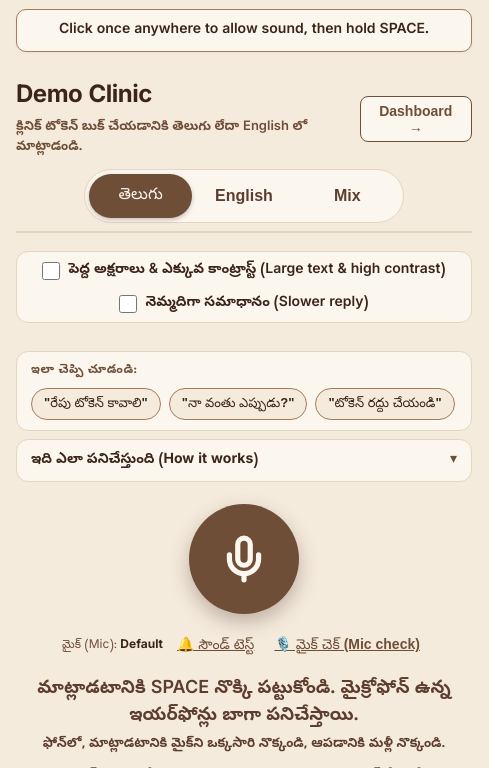
Patient App Component Tests (Vitest + RTL) › 12. Try-saying chip sends text turn without mic and displays English translation under Telugu reply
This screenshot has width=489, height=768.
// Switch to English to get the English chips
Click the button "English" at (244, 196), box [192,174,296,218]
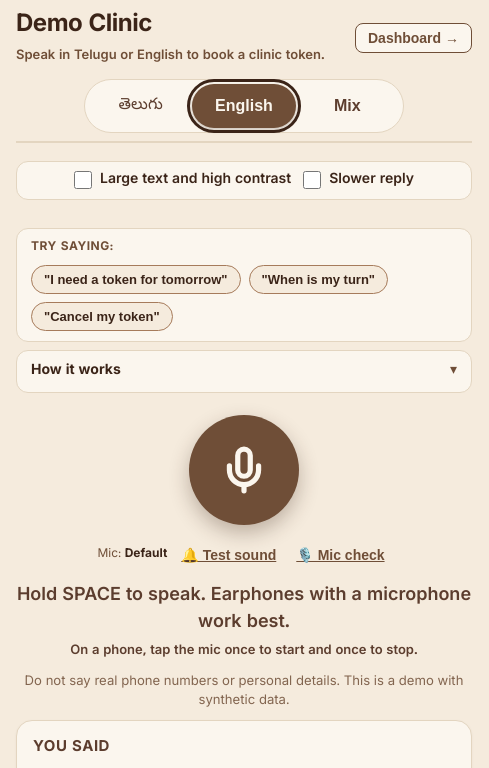
// Click the "I need a token for tomorrow" chip
Click the button "\"I need a token for tomorrow\"" at (136, 279), box [31,264,240,294]
(page scrolled)
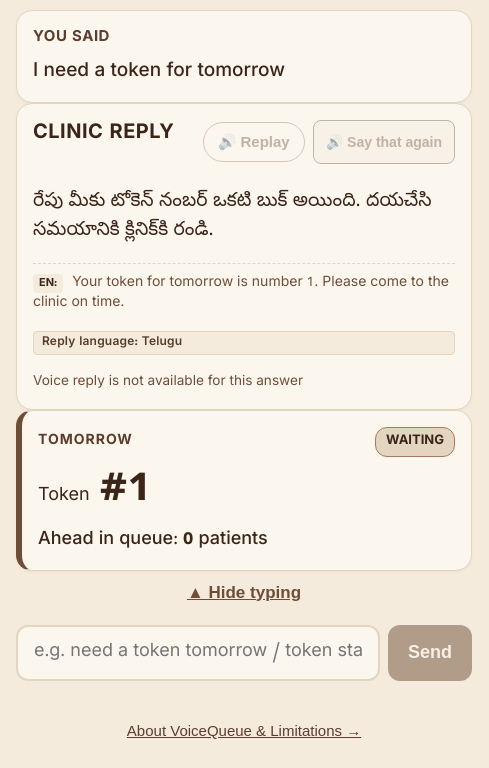
Check: the text "I need a token for tomorrow" is shown, box [33,59,285,85]
Check: the text "రేపు మీకు టోకెన్ నంబర్ ఒకటి బుక్ అయింది" is shown, box [33,189,432,244]
Check: the text "Your token for tomorrow is number 1. Please come to the clinic on time." is shown, box [33,274,449,313]
